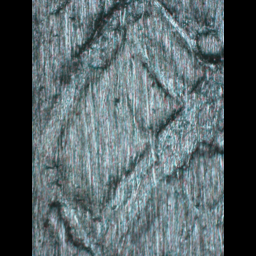d: (49, 0, 221, 253)
